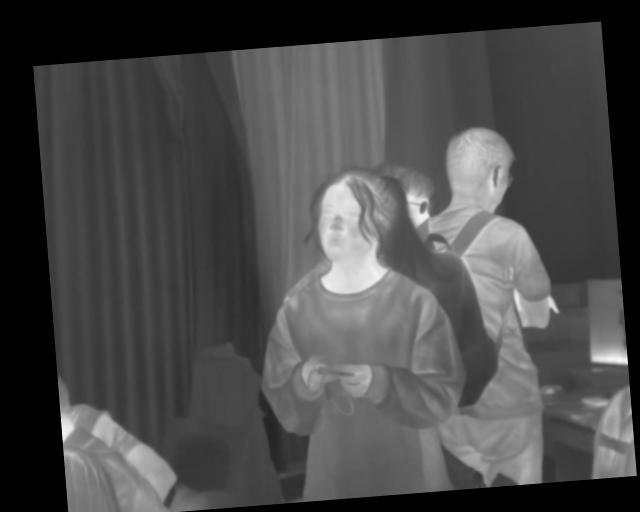face: (309, 163, 404, 264)
